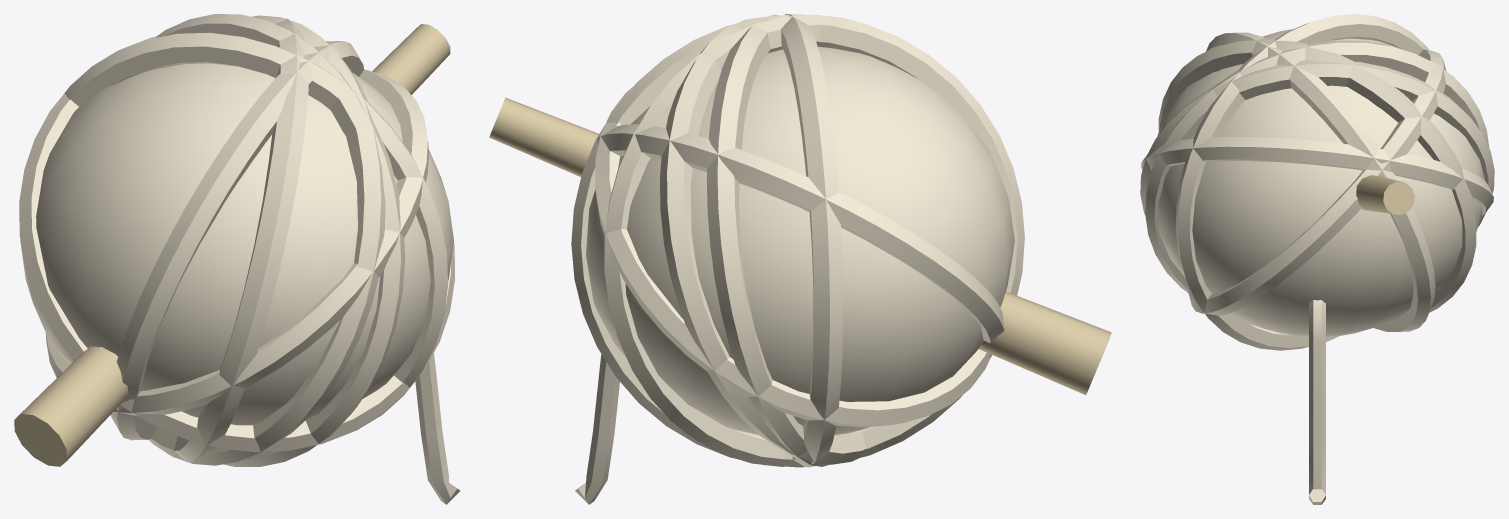
The model's file is res_silk_thread.glb.
3 renders of one model, left to right at view 1: azimuth 30°, elevation 25°; view 2: azimuth 150°, elevation 25°; view 3: azimuth 270°, elevation 25°, orthographic. The views are drawn at different scales.
Visible parts, largest first — view 1: res_silk_thread; view 2: res_silk_thread; view 3: res_silk_thread.
Boxes of the visible parts, x1,y1,x2,y2 form: res_silk_thread: (14, 14, 460, 504); res_silk_thread: (489, 14, 1111, 504); res_silk_thread: (1140, 14, 1494, 504).
Bounding box in the file's own units: 0.1937 × 0.1849 × 0.1466.
